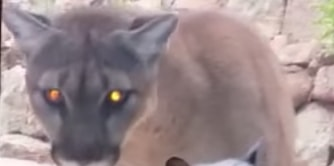Mountain Lion: (4, 5, 298, 165)
